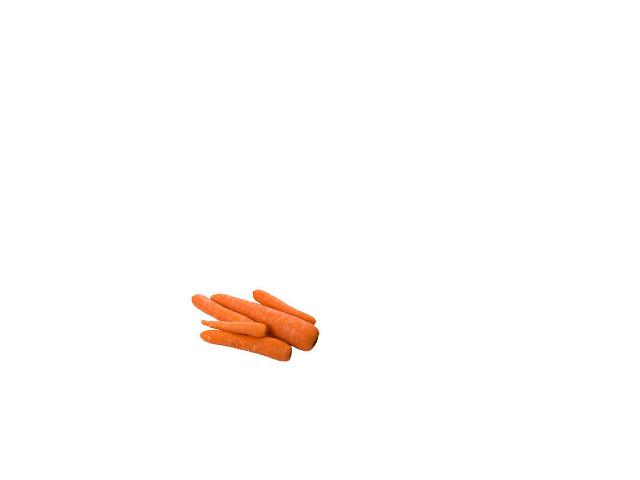carrot: (196, 334, 295, 357)
